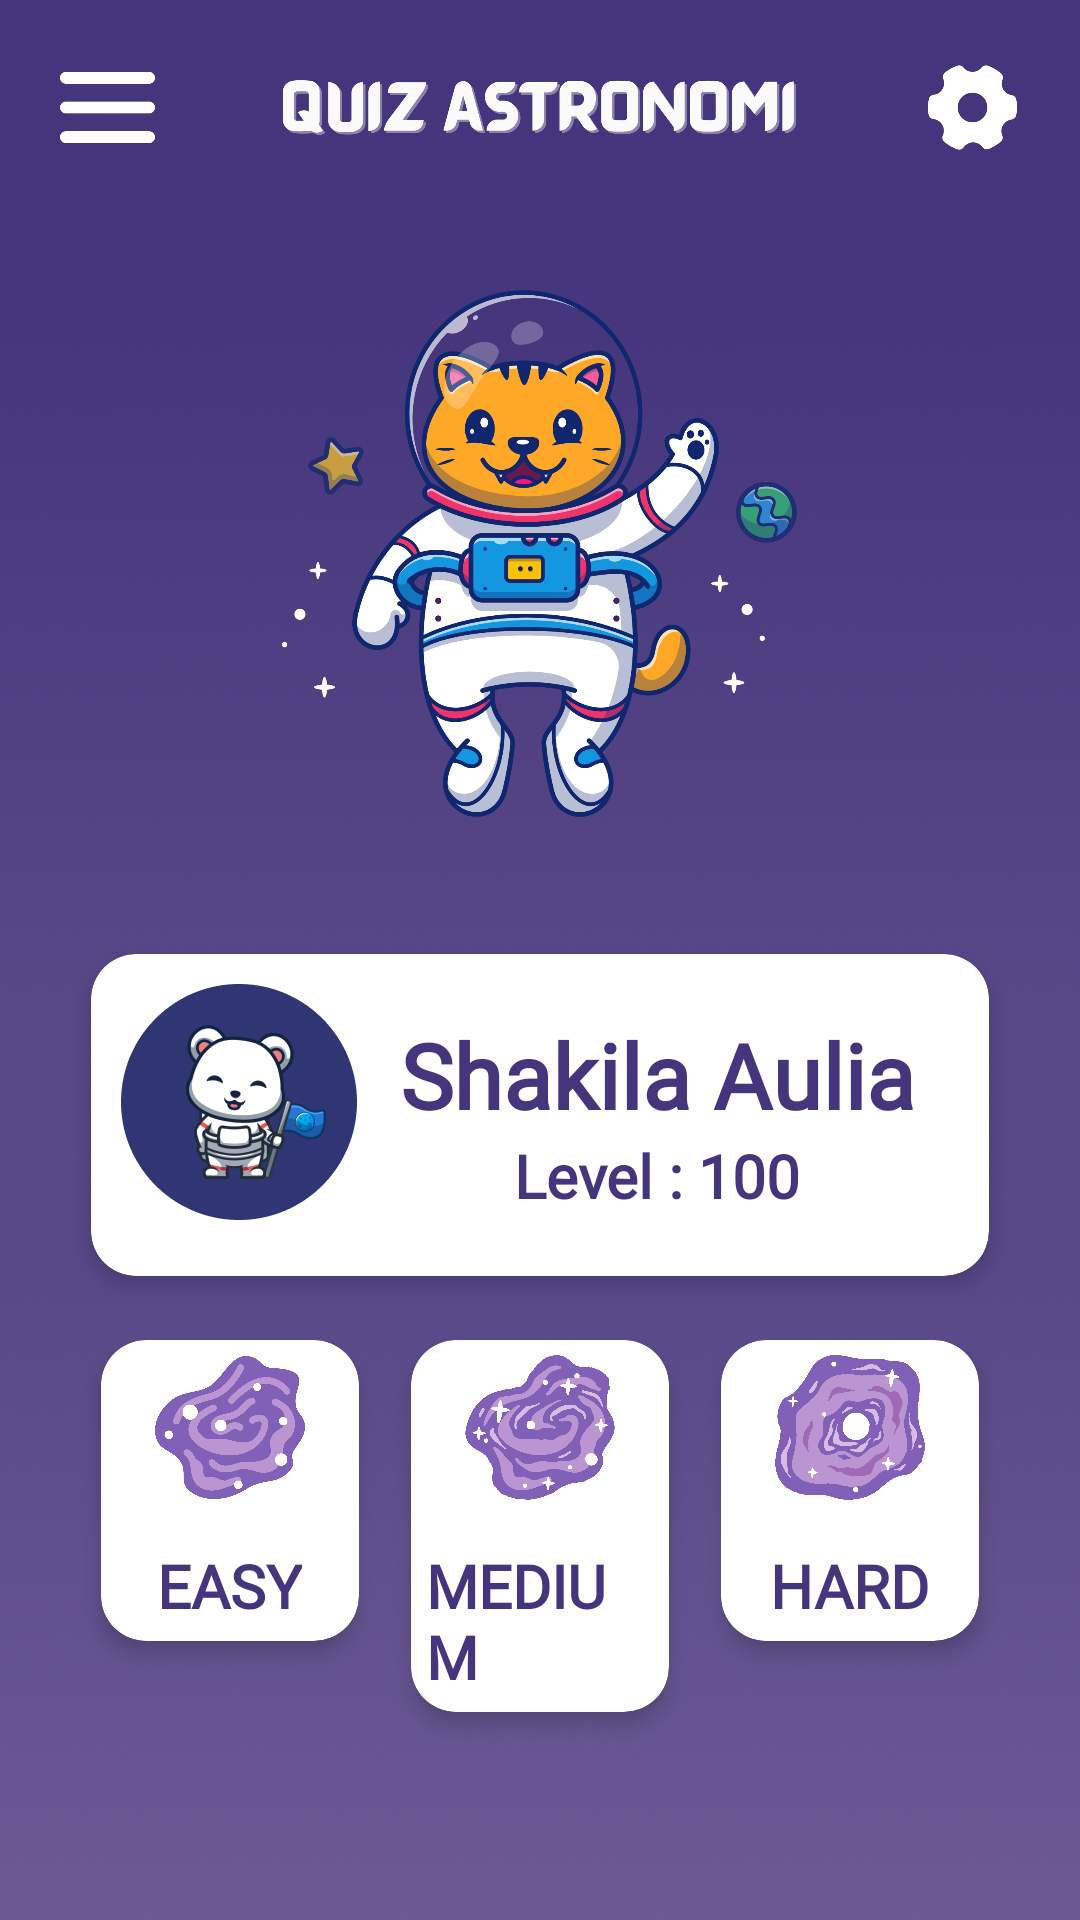

Icon bounding boxes for this 1080w x 1920h phone screenshot, format (x1, y1, x2, y2):
menu: (60, 72, 155, 143)
setting: (928, 65, 1017, 150)
